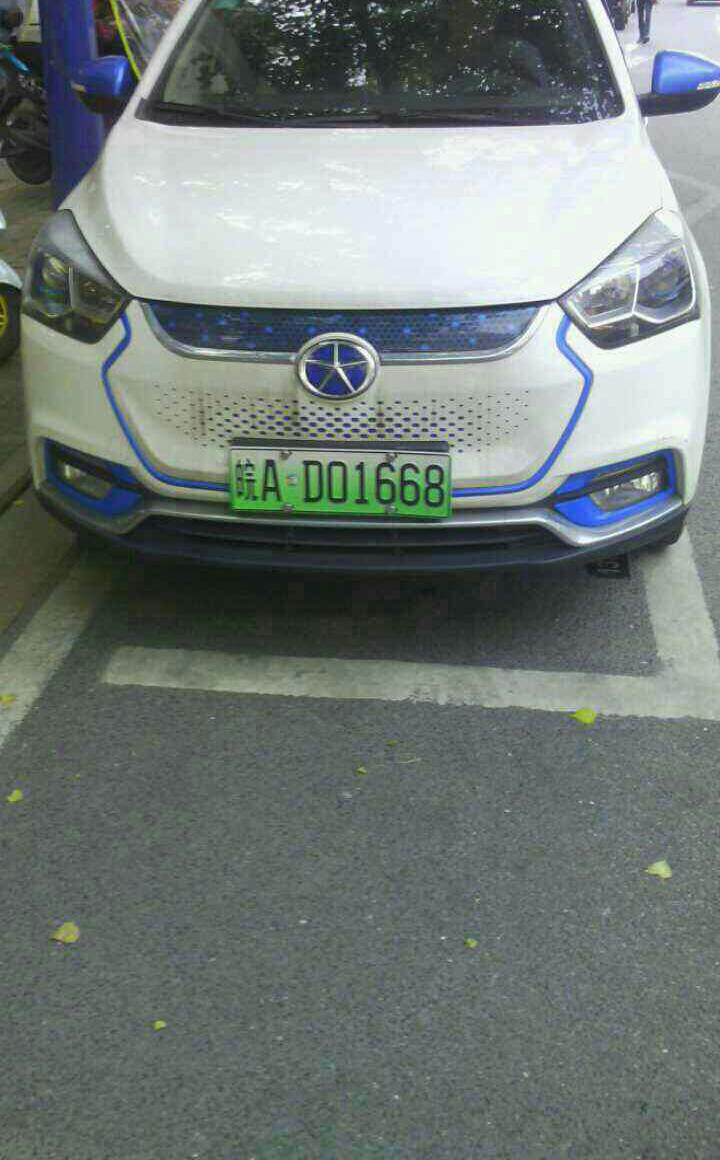car_green: (227, 440, 456, 525)
